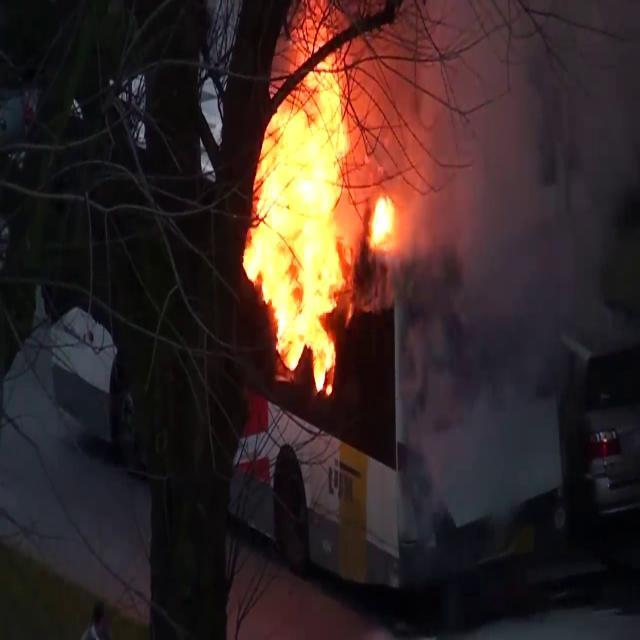Fire: (236, 43, 402, 390), (366, 188, 400, 256)
Smoke: (378, 1, 640, 490)
